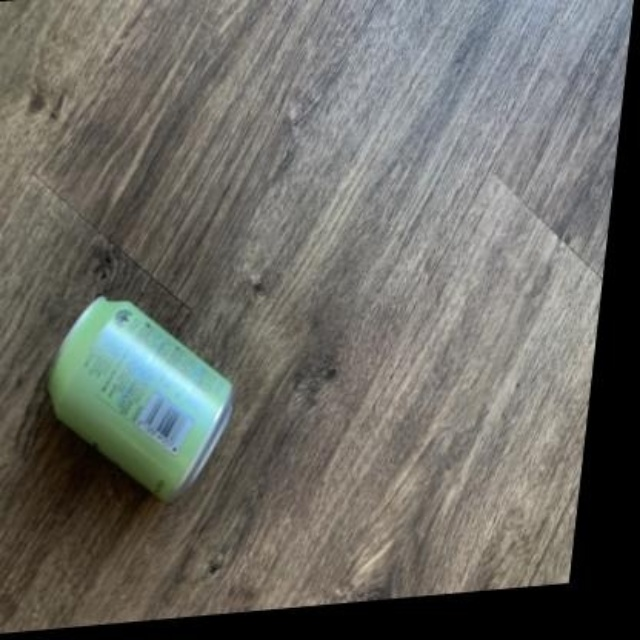trash: (49, 297, 231, 500)
